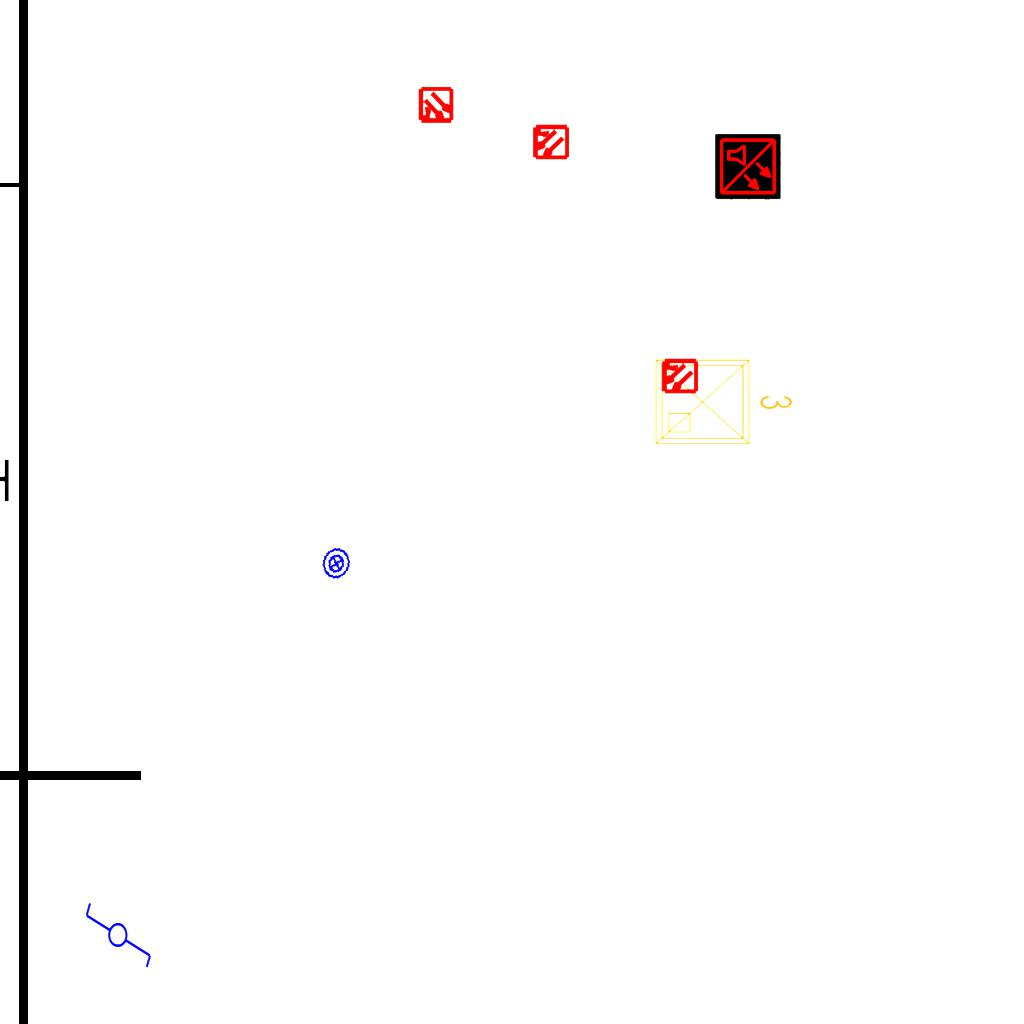Einbaudownlights_LED_Konferenzraeume: (648, 348, 798, 452)
OKW_Multisensormelder_(Kombination_optischer_Rauch-Kahlenmonoxid_Waerme-Melder): (715, 134, 781, 200)
OT_Multisensormelder_(Kombination_RMO_WMD): (408, 78, 464, 134), (522, 114, 578, 170), (651, 348, 707, 404)
Taster_beleuchtet: (316, 543, 357, 584)
Wechselschalter: (83, 892, 155, 970)
